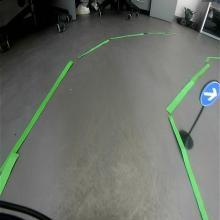right: (200, 80, 220, 106)
